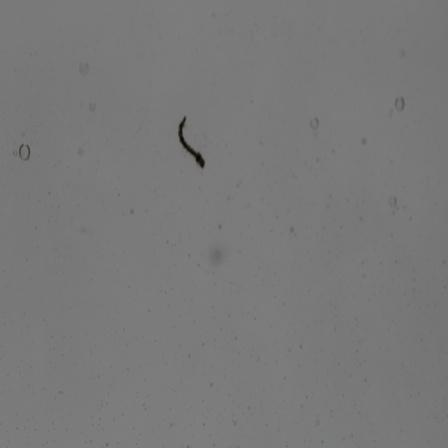Jentik-Nyamuk: (174, 110, 208, 172)
